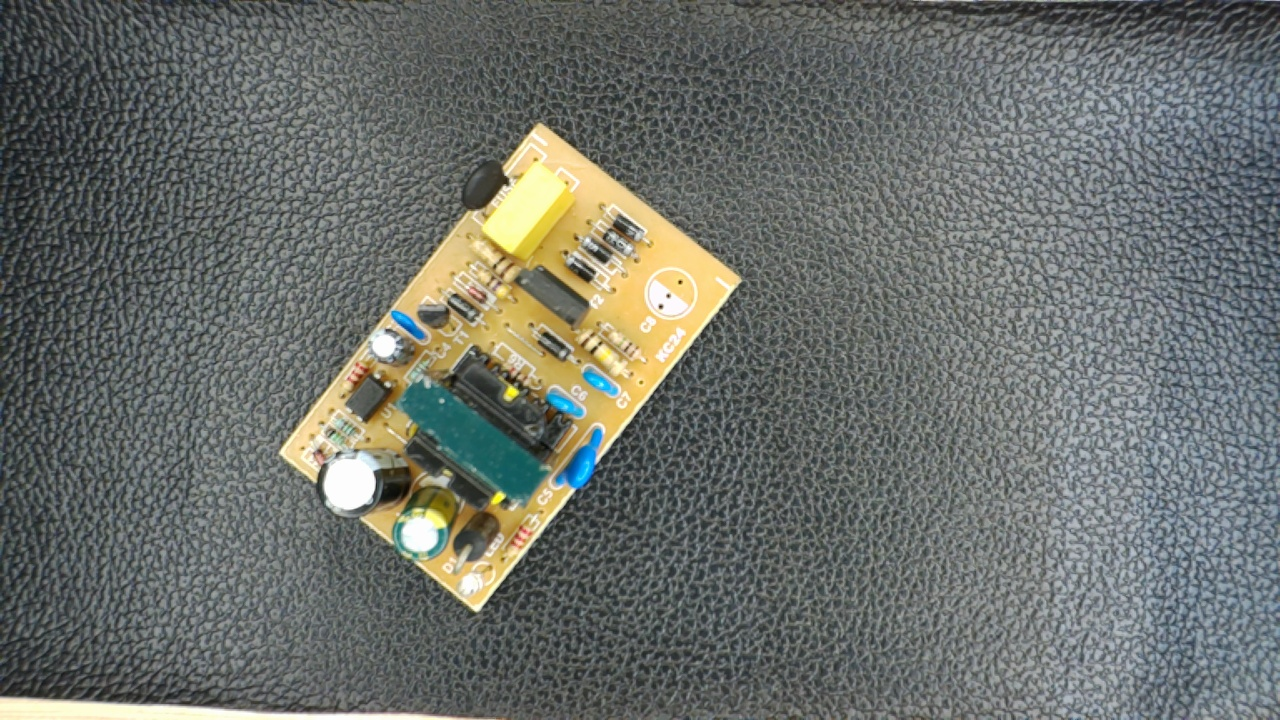fuse: (450, 161, 527, 212)
mov: (546, 429, 614, 491)
optocoupler: (339, 372, 402, 420)
